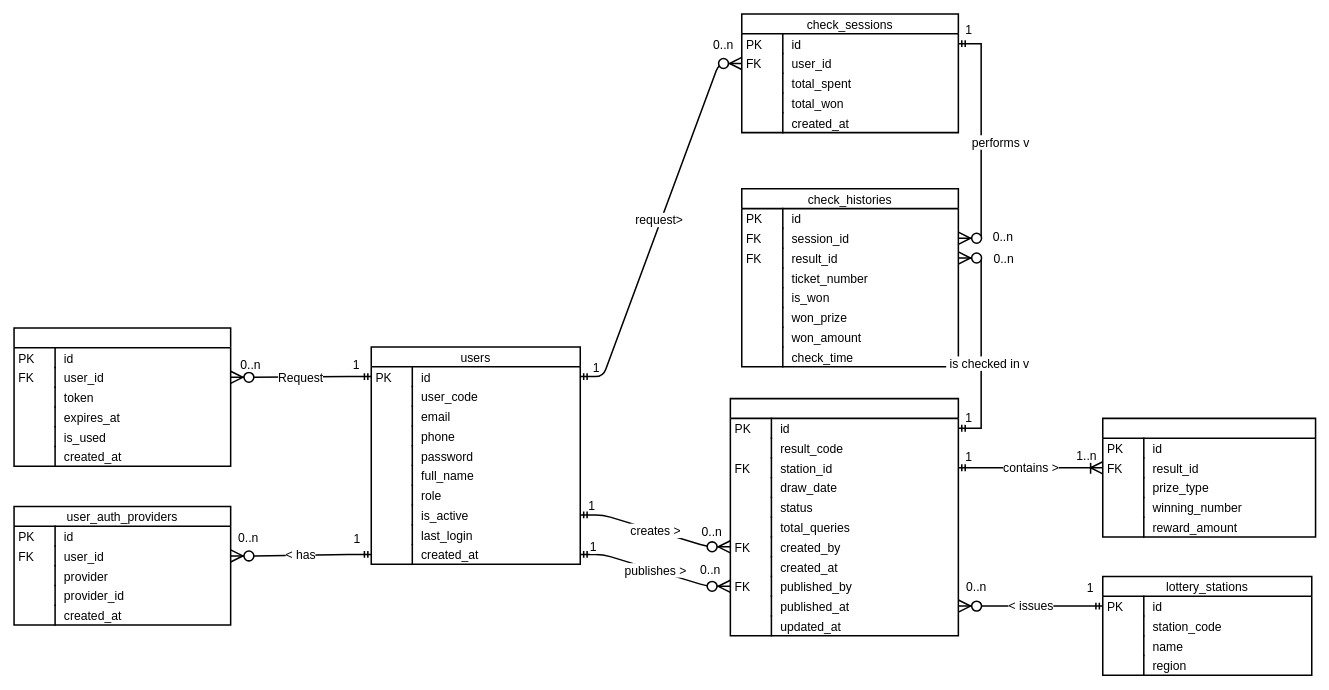
Some shapes in this 1329 by 690 pixel diagram are drawn without their labels. Here are the shapes that lost their labels. From the top down, the box of each, then its label:
(13, 327, 231, 467): password_reset_tokens
(1102, 417, 1316, 537): prize_details
(729, 397, 959, 636): lottery_results
